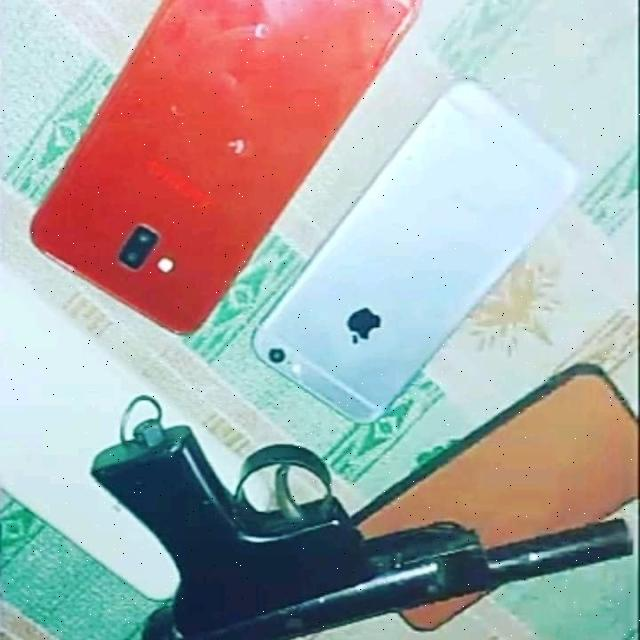gun: (86, 389, 640, 640)
